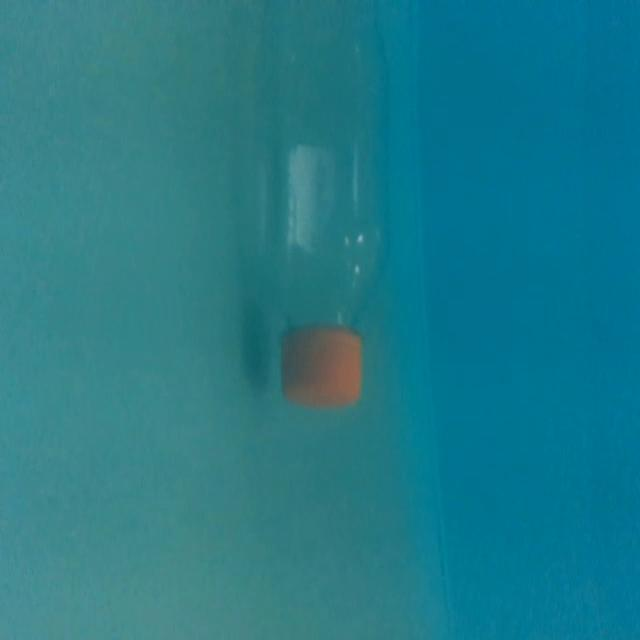plastic bottle: (236, 0, 412, 412)
